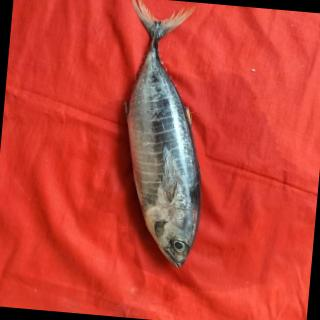Ikan: (104, 1, 227, 276)
